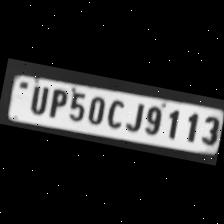0: (82, 92, 108, 126)
1: (178, 108, 202, 144), (160, 106, 184, 141)
3: (196, 113, 223, 148)
5: (64, 88, 90, 124)
9: (139, 102, 166, 138)
C: (101, 95, 126, 130)
J: (122, 98, 148, 134)
P: (44, 86, 70, 119)
U: (23, 82, 50, 116)
